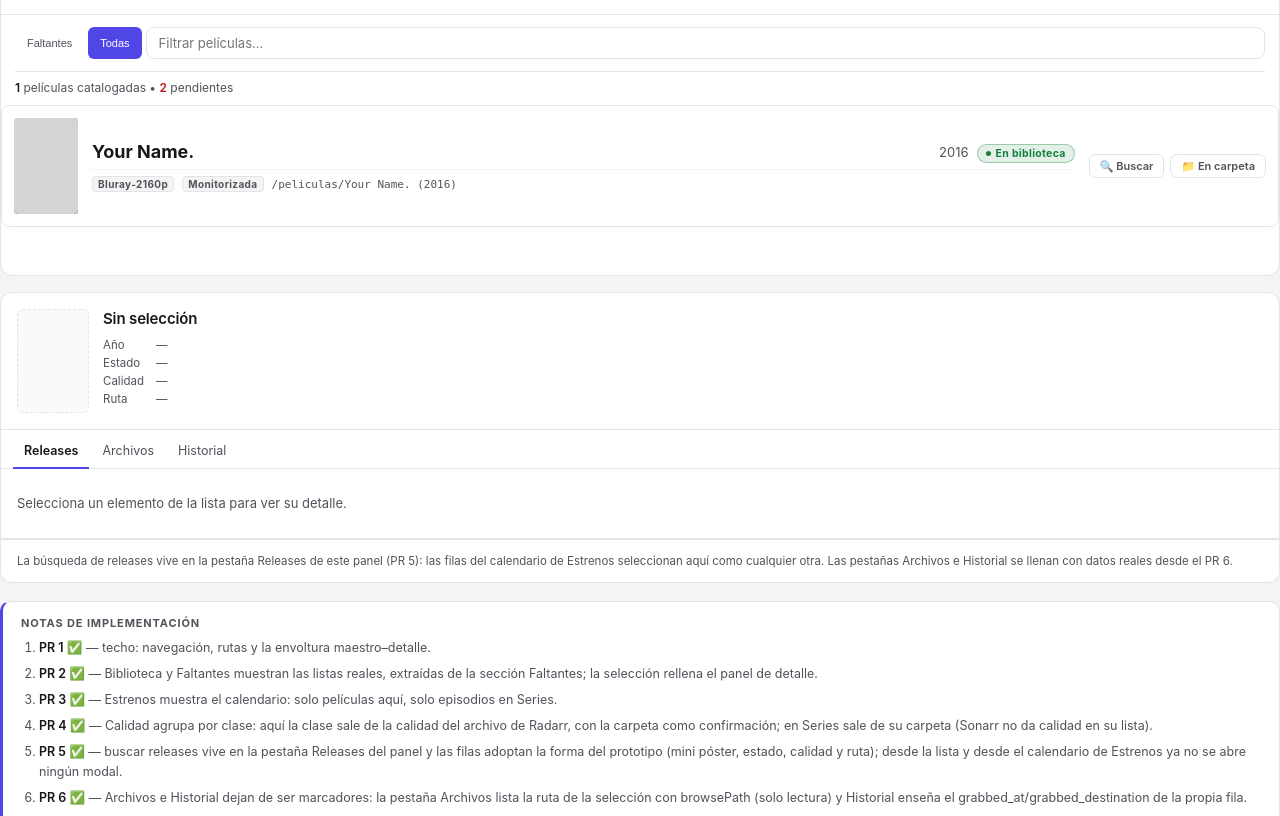
Test: sections · the release search in the panel › drives a grab from the Releases tab end to end
The image size is (1280, 816).
Expected: the text "Your Name." is shown, [92, 141, 194, 162]
What coordinates should you click on to do the following:
click the button "Faltantes"
I would click on:
 (50, 43)
Its box is [15, 27, 84, 59].
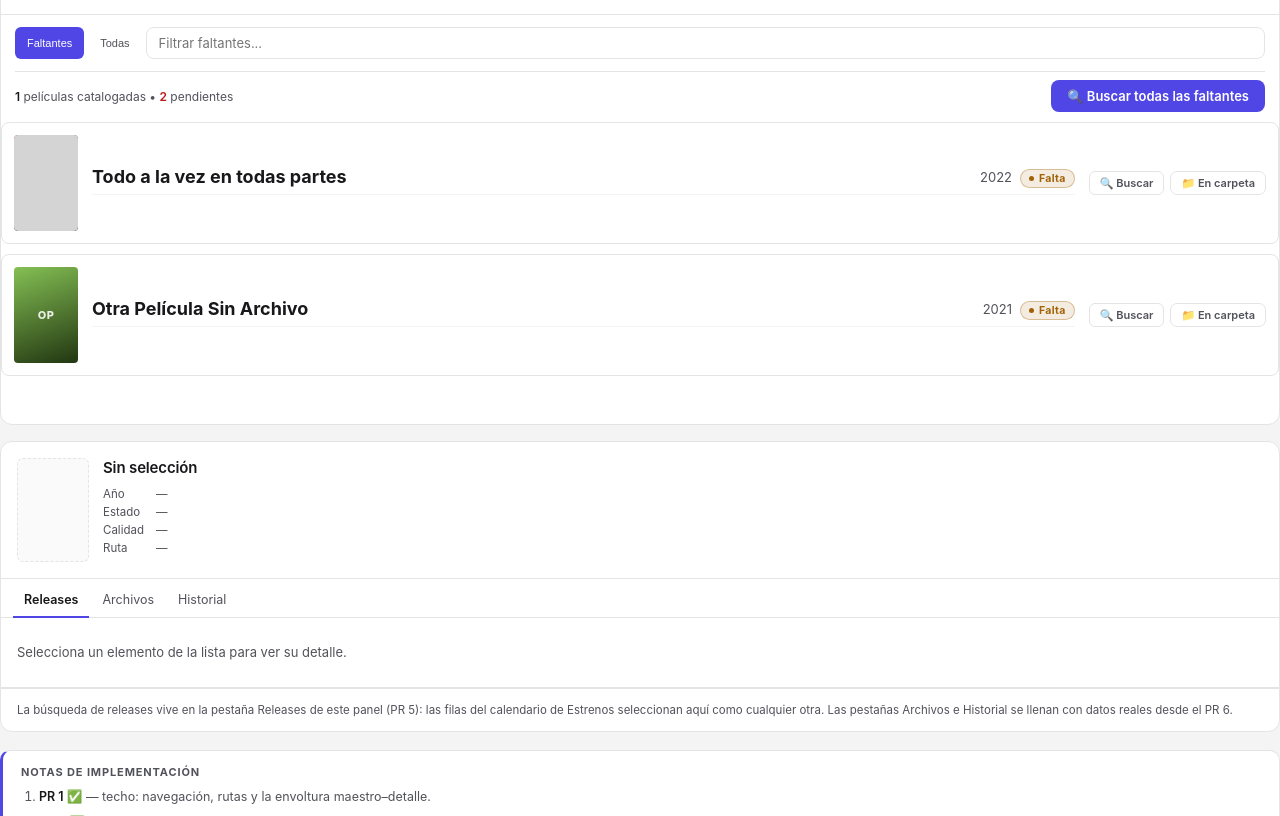
Expected: the text "Todo a la vez en todas partes" is shown, [92, 166, 347, 187]
What coordinates should you click on to do the following:
click the element with class "sec-row" that starts with "Todo a la vez en todas partes"
I would click on:
 (640, 183)
Its box is [1, 122, 1279, 244].
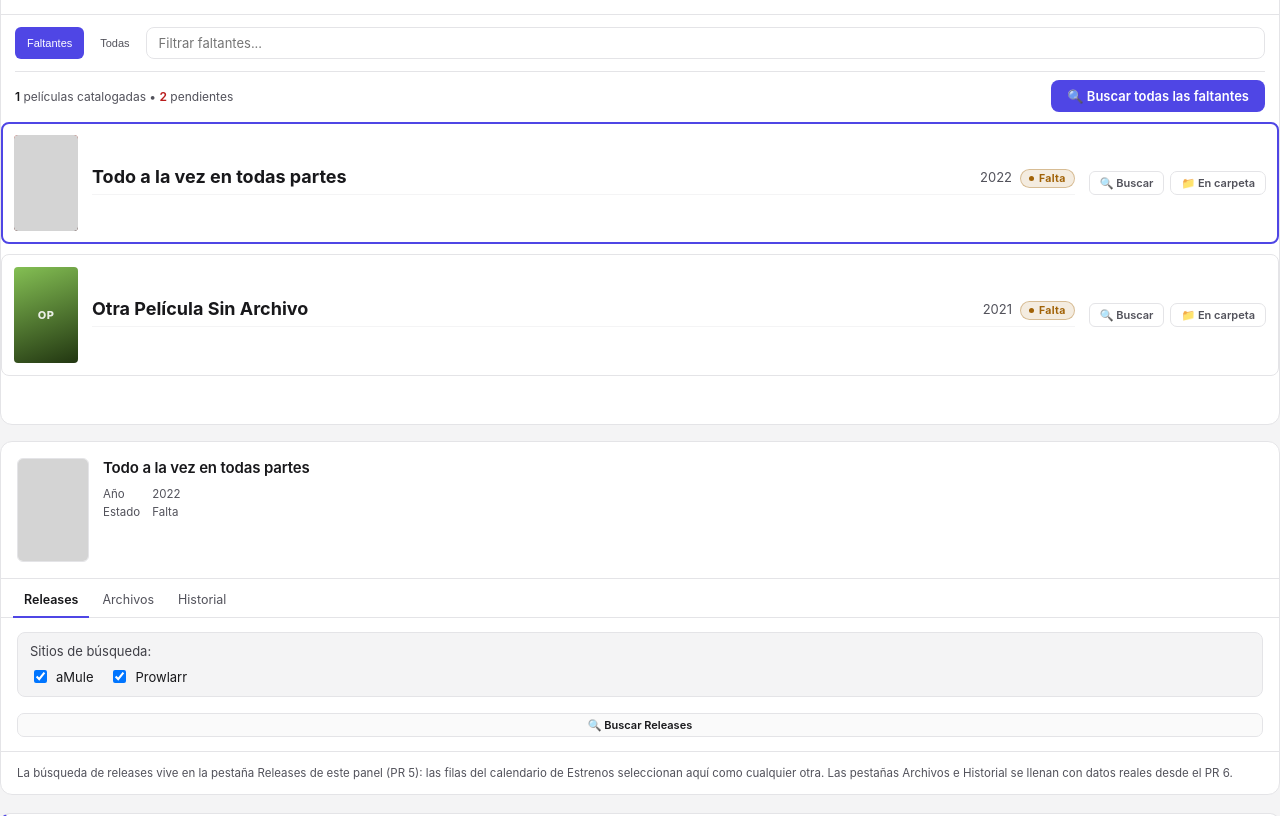
Expected: the button "🔍 Buscar Releases" is shown
What coordinates should you click on to do the following:
click the button "🔍 Buscar Releases"
I would click on:
 (640, 725)
Its box is [17, 713, 1263, 737].
(page scrolled)
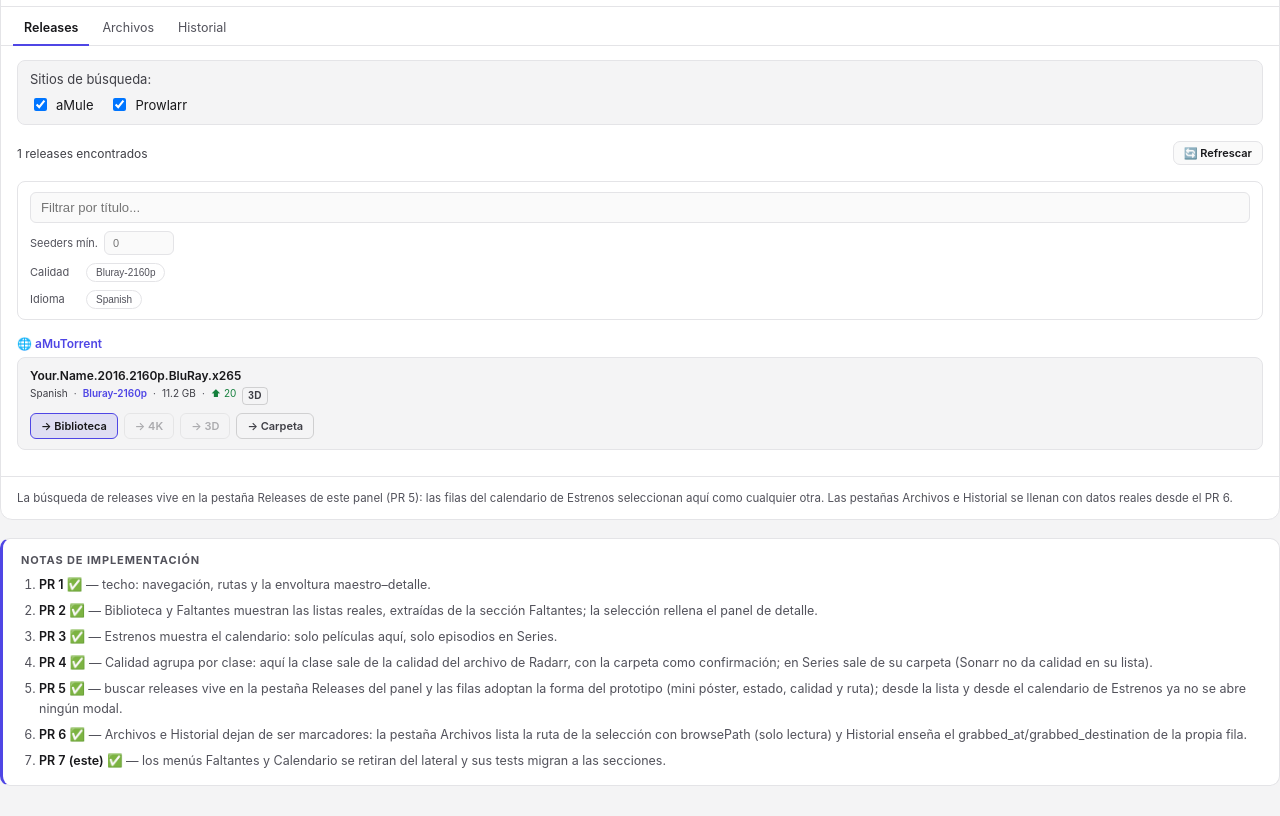
Expected: the field with placeholder "Filtrar por título..." is shown, [30, 192, 1250, 223]
Expected: the text "1 releases encontrados" is shown, [17, 146, 148, 160]
Expected: the button "→ Biblioteca" is shown
What coordinates should you click on to do the following:
click the button "→ Biblioteca"
I would click on:
 (74, 426)
Its box is [30, 413, 118, 439].
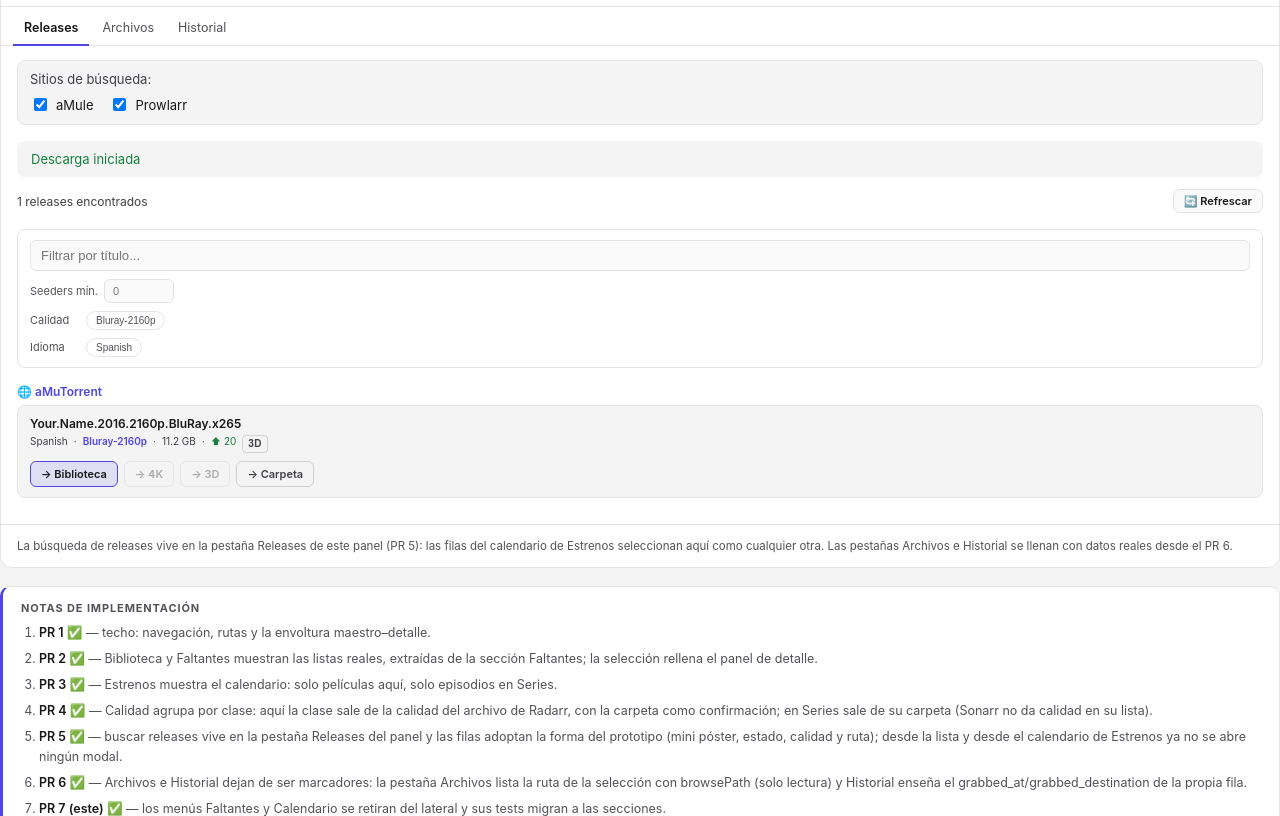
Expected: the text "Descarga iniciada" is shown, [31, 151, 140, 167]
